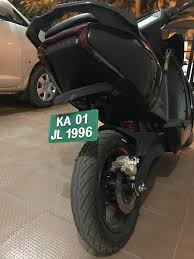Number plates: (43, 107, 107, 144)
